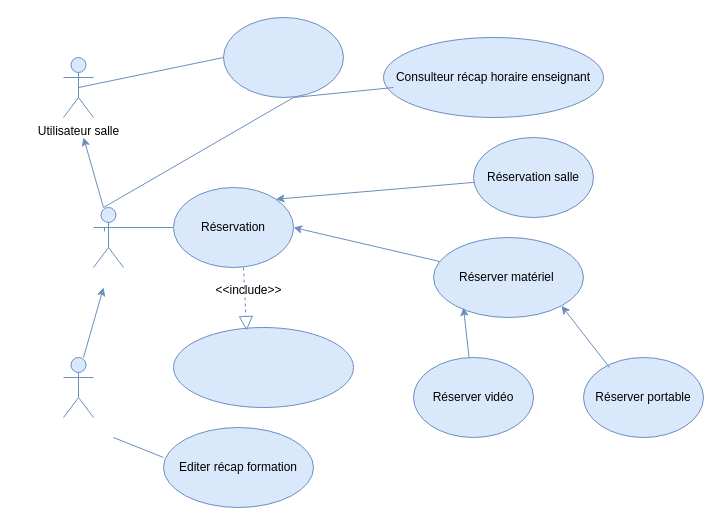
This 721x525 diagram has some shape labels left out. Here are the shapes that lost their labels. From the top down, the centre of each, then its label:
At point (283, 57): "Consulteur plannir".
At point (108, 237): "Enseignant".
At point (78, 387): "Responsable formation".
At point (263, 367): "véerification disponibilité".
